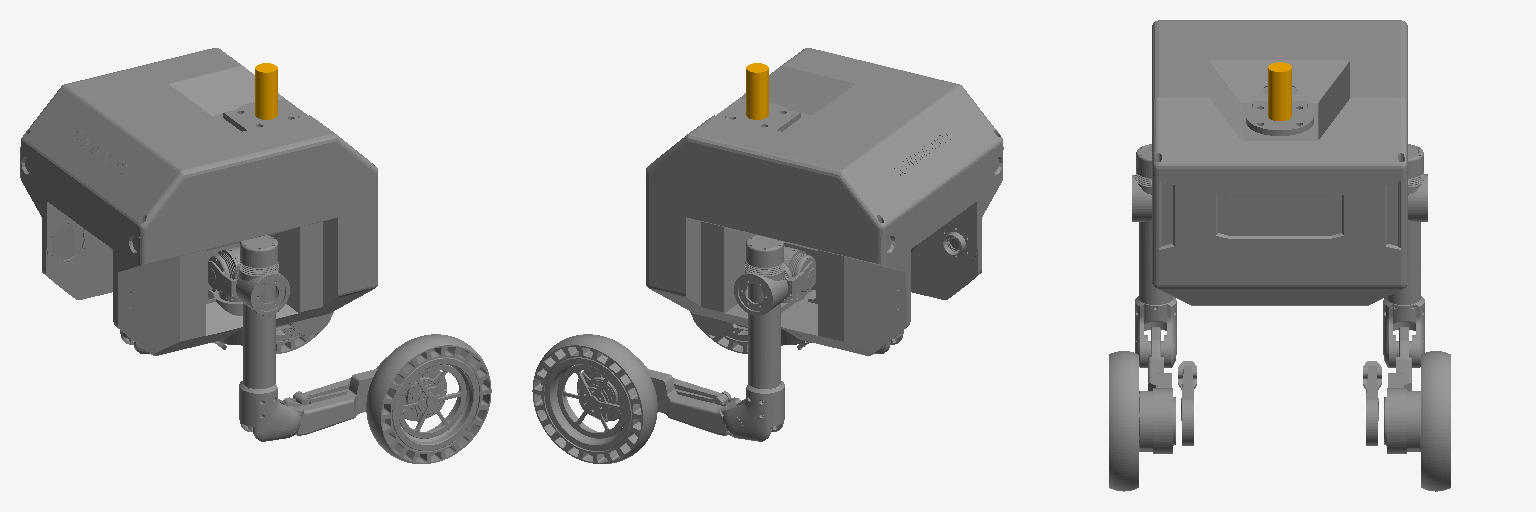
robot.urdf — wheelwalker_v1:
<?xml version="1.0" ?>
<!-- =================================================================================== -->
<!-- |    This document was autogenerated by xacro from xacro/wheelwalker_v1.urdf.xacro | -->
<!-- |    EDITING THIS FILE BY HAND IS NOT RECOMMENDED                                 | -->
<!-- =================================================================================== -->
<robot name="wheelwalker_v1">

  <link name="base_link">
    <visual>
      <geometry>
        <mesh filename="../meshes/wheelwalker_v0.1/base_link.stl"/>
      </geometry>
      <origin rpy="0 0 0" xyz="0 0 0.0"/>
      <material name="LightGrey">
        <color rgba="0.6 0.6 0.6 1.0"/>
      </material>
    </visual>
    <collision>
      <origin rpy="0 0 0" xyz="0 0 0.0"/>
      <geometry>
        <box size="0.49500000000000005 0.44000000000000006 0.385"/>
      </geometry>
    </collision>
    <inertial>
      <origin rpy="0 0 0" xyz="0 0 0.0"/>
      <mass value="6.0396"/>
      <inertia ixx="0.14218225" ixy="0.0" ixz="0.0" iyy="0.1635725" iyz="0.0" izz="0.18244625"/>
    </inertial>
  </link>


  <!-- shoulder mounting points -->
  <joint name="top_shoulder_mount_joint" type="fixed">
    <origin rpy="0 0 0" xyz="0.12600000000000003 0.0 0.175"/>
    <parent link="base_link"/>
    <child link="top_shoulder_mount_link"/>
  </joint>
  <link name="top_shoulder_mount_link">
    <visual>
      <origin rpy="0 0 0" xyz="0 0 0"/>
      <geometry>
        <cylinder length="0.08879999999999999" radius="0.0185"/>
      </geometry>
      <material name="yellow-skin">
        <color rgba="1.0 0.7 0.0 1.0"/>
      </material>    </visual>
  </link>

  <!-- Left Leg Links -->
  <!-- hip mounting points -->
  <joint name="left_hip_mount_joint" type="fixed">
    <origin rpy="0 0 0" xyz="0.0 0.119 -0.147"/>
    <parent link="base_link"/>
    <child link="left_hip_yaw_link"/>
  </joint>


  <!-- hip yaw -->

  <link name="left_hip_yaw_link">
    <visual>
      <origin rpy="0 0 0" xyz="0 0 0"/>
      <geometry>
        <mesh filename="../meshes/wheelwalker_v0.1/left_hip_yaw_link.stl" scale="0.001 0.001 0.001"/>
      </geometry>
      <material name="LightGrey">
        <color rgba="0.6 0.6 0.6 1.0"/>
      </material>
    </visual>
    <collision>
      <origin rpy="0 0 0" xyz="0 0 0"/>
      <geometry>
        <cylinder length="0.08879999999999999" radius="0.0185"/>
      </geometry>
    </collision>
    <inertial>
      <origin rpy="0 0 0" xyz="0 0 0"/>
      <mass value="0.85"/>
      <inertia ixx="0.0006312801249999998" ixy="0.0" ixz="0.0" iyy="0.0006312801249999998" iyz="0.0" izz="0.00014545624999999997"/>
    </inertial>
  </link>
  <joint name="left_hip_yaw_joint" type="fixed">
    <origin rpy="0 0 0" xyz="0 0 0"/>
    <parent link="left_hip_yaw_link"/>
    <child link="left_hip_roll_link"/>
    <axis xyz="0 0 1"/>
    <limit effort="1000.0" lower="-3.14159265359" upper="3.14159265359" velocity="10.0"/>
    <dynamics damping="0.0" friction="0.0"/>
  </joint>

  <!-- hip roll -->

  <link name="left_hip_roll_link">
    <visual>
      <origin rpy="0 0 0" xyz="0 0 0.08175"/>
      <geometry>
        <mesh filename="../meshes/wheelwalker_v0.1/left_hip_roll_link.stl" scale="0.001 0.001 0.001"/>
      </geometry>
      <material name="LightGrey">
        <color rgba="0.6 0.6 0.6 1.0"/>
      </material>
    </visual>
    <collision>
      <origin rpy="0 1.570796326795 0" xyz="0 0 0.08175"/>
      <geometry>
        <cylinder length="0.08879999999999999" radius="0.0185"/>
      </geometry>
    </collision>
    <inertial>
      <origin rpy="0 1.570796326795 0" xyz="0 0 0.08175"/>
      <mass value="0.85"/>
      <inertia ixx="0.0006312801249999998" ixy="0.0" ixz="0.0" iyy="0.0006312801249999998" iyz="0.0" izz="0.00014545624999999997"/>
    </inertial>
  </link>
  <joint name="left_hip_roll_joint" type="fixed">
    <origin rpy="0 0 0" xyz="0 0 0.08175"/>
    <parent link="left_hip_roll_link"/>
    <child link="left_hip_pitch_link"/>
    <axis xyz="1 0 0"/>
    <limit effort="1000.0" lower="-3.14159265359" upper="3.14159265359" velocity="10.0"/>
    <dynamics damping="0.0" friction="0.0"/>
  </joint>

  <!-- hip pitch -->

  <link name="left_hip_pitch_link">
    <visual>
      <origin rpy="0 0 0" xyz="0 0.07525 0"/>
      <geometry>
        <mesh filename="../meshes/wheelwalker_v0.1/left_hip_pitch_link.stl" scale="0.001 0.001 0.001"/>
      </geometry>
      <material name="LightGrey">
        <color rgba="0.6 0.6 0.6 1.0"/>
      </material>
    </visual>
    <collision>
      <origin rpy="1.570796326795 0 0" xyz="0 0.07525 0"/>
      <geometry>
        <cylinder length="0.08879999999999999" radius="0.0185"/>
      </geometry>
    </collision>
    <inertial>
      <origin rpy="1.570796326795 0 0" xyz="0 0.07525 0"/>
      <mass value="0.85"/>
      <inertia ixx="0.0006312801249999998" ixy="0.0" ixz="0.0" iyy="0.0006312801249999998" iyz="0.0" izz="0.00014545624999999997"/>
    </inertial>
  </link>
  <joint name="left_hip_pitch_joint" type="fixed">
    <origin rpy="0 0 0" xyz="0 0.07525 0"/>
    <parent link="left_hip_pitch_link"/>
    <child link="left_thigh_link"/>
    <axis xyz="0 1 0"/>
    <limit effort="1000.0" lower="-1.570796326795" upper="1.570796326795" velocity="10.0"/>
    <dynamics damping="0.0" friction="0.0"/>
  </joint>

  <!-- Thigh link -->

  <link name="left_thigh_link">
    <visual>
      <origin rpy="0 0 0" xyz="0 0 0"/>
      <geometry>
        <mesh filename="../meshes/wheelwalker_v0.1/left_thigh_link.stl" scale="0.001 0.001 0.001"/>
      </geometry>
      <material name="LightGrey">
        <color rgba="0.6 0.6 0.6 1.0"/>
      </material>
    </visual>
    <collision>
      <origin rpy="0 0 0" xyz="0.0 0.0 -0.125"/>
      <geometry>
        <cylinder length="0.275" radius="0.036300000000000006"/>
      </geometry>
    </collision>
    <inertial>
      <origin rpy="0 0 0" xyz="0.0 0.0 -0.125"/>
      <mass value="2.8"/>
      <inertia ixx="0.015345633333333332" ixy="0.0" ixz="0.0" iyy="0.015345633333333332" iyz="0.0" izz="0.0015246"/>
    </inertial>
  </link>


  <joint name="left_knee_pitch_joint" type="fixed">
    <origin rpy="0 -1.570796326795 0 " xyz="0.04 0 -0.25"/>
    <parent link="left_thigh_link"/>
    <child link="left_tibia_link"/>
    <axis xyz="0 1 0"/>
    <limit effort="1000.0" lower="-0.7853981633975" upper="0.7853981633975" velocity="10.0"/>
    <dynamics damping="0.0" friction="0.0"/>
  </joint>

  <link name="left_tibia_link">
    <visual>
      <origin rpy="0 0 0" xyz="0 0 0"/>
      <geometry>
        <mesh filename="../meshes/wheelwalker_v0.1/left_tibia_link.stl" scale="0.001 0.001 0.001"/>
      </geometry>
      <material name="LightGrey">
        <color rgba="0.6 0.6 0.6 1.0"/>
      </material>
    </visual>
    <collision>
      <origin rpy="0 0 0" xyz="0 0 -0.125"/>
      <geometry>
        <cylinder length="0.275" radius="0.03465"/>
      </geometry>
    </collision>
    <inertial>
      <origin rpy="0 0 0" xyz="0 0 -0.125"/>
      <mass value="1.2"/>
      <inertia ixx="0.006547674999999999" ixy="0.0" ixz="0.0" iyy="0.006547674999999999" iyz="0.0" izz="0.00059535"/>
    </inertial>
  </link>


  <!-- supporting foot -->

  <joint name="left_ankle_pitch_joint" type="fixed">
    <origin rpy="0 1.570796326795 0" xyz="0 -0.05 -0.25"/>
    <parent link="left_tibia_link"/>
    <child link="left_foot_link"/>
    <axis xyz="0 1 0"/>
    <limit effort="1000.0" lower="-0.7853981633975" upper="0.7853981633975" velocity="10.0"/>
    <dynamics damping="0.0" friction="0.0"/>
  </joint>

  <link name="left_foot_link">
    <visual>
      <origin rpy="0 0 0" xyz="0 0 0"/>
      <geometry>
        <mesh filename="../meshes/wheelwalker_v0.1/left_foot_link.stl" scale="0.001 0.001 0.001"/>
      </geometry>
      <material name="LightGrey">
        <color rgba="0.6 0.6 0.6 1.0"/>
      </material>
    </visual>
    <collision>
      <origin rpy="0 1.570796326795 0" xyz="-0.09 0 0"/>
      <geometry>
        <cylinder length="0.18" radius="0.012"/>
      </geometry>
    </collision>
    <inertial>
      <origin rpy="0 1.570796326795 0" xyz="-0.09 0 0"/>
      <mass value="1.177"/>
      <inertia ixx="0.0032202719999999997" ixy="0.0" ixz="0.0" iyy="0.0032202719999999997" iyz="0.0" izz="8.4744e-05"/>
    </inertial>
  </link>

  <!-- wheel link -->

  <joint name="left_wheel_joint" type="revolute">
    <origin rpy="0 1.570796326795 0" xyz="0 0.05 -0.25"/>
    <parent link="left_tibia_link"/>
    <child link="left_wheel_link"/>
    <axis xyz="0 1 0"/>
    <limit effort="1000.0" velocity="10.0"/>
    <dynamics damping="0.0" friction="0.0"/>
  </joint>
  <link name="left_wheel_link">
    <visual>
      <origin rpy="0 0 0" xyz="0 0 0"/>
      <geometry>
        <mesh filename="../meshes/wheelwalker_v0.1/left_wheel_link.stl" scale="0.001 0.001 0.001"/>
      </geometry>
      <material name="LightGrey">
        <color rgba="0.6 0.6 0.6 1.0"/>
      </material>
    </visual>
    <collision>
      <origin rpy="1.570796326795 0 0" xyz="0 0 0"/>
      <geometry>
        <cylinder length="0.03" radius="0.11"/>
      </geometry>
    </collision>
    <inertial>
      <origin rpy="1.570796326795 0 0" xyz="0 0 0"/>
      <mass value="0.9"/>
      <inertia ixx="0.0027899999999999995" ixy="0.0" ixz="0.0" iyy="0.0027899999999999995" iyz="0.0" izz="0.005445"/>
    </inertial>
  </link>
  <!-- Right Leg Links -->

  <!-- hip mounting points -->

  <joint name="right_hip_mount_joint" type="fixed">
    <origin rpy="0 0 0" xyz="0.0 -0.119 -0.147"/>
    <parent link="base_link"/>
    <child link="right_hip_yaw_link"/>
  </joint>

  <!-- hip yaw -->

  <link name="right_hip_yaw_link">
    <visual>
      <origin rpy="0 0 0" xyz="0 0 0"/>
      <geometry>
        <mesh filename="../meshes/wheelwalker_v0.1/right_hip_yaw_link.stl" scale="0.001 0.001 0.001"/>
      </geometry>
      <material name="LightGrey">
        <color rgba="0.6 0.6 0.6 1.0"/>
      </material>
    </visual>
    <collision>
      <origin rpy="0 0 0" xyz="0 0 0"/>
      <geometry>
        <cylinder length="0.08879999999999999" radius="0.0185"/>
      </geometry>
    </collision>
    <inertial>
      <origin rpy="0 0 0" xyz="0 0 0"/>
      <mass value="0.85"/>
      <inertia ixx="0.0006312801249999998" ixy="0.0" ixz="0.0" iyy="0.0006312801249999998" iyz="0.0" izz="0.00014545624999999997"/>
    </inertial>
  </link>
  <joint name="right_hip_yaw_joint" type="fixed">
    <origin rpy="0 0 0" xyz="0 0 0"/>
    <parent link="right_hip_yaw_link"/>
    <child link="right_hip_roll_link"/>
    <axis xyz="0 0 1"/>
    <limit effort="1000.0" lower="-3.14159265359" upper="3.14159265359" velocity="10.0"/>
    <dynamics damping="0.0" friction="0.0"/>
  </joint>

  <!-- hip roll -->

  <link name="right_hip_roll_link">
    <visual>
      <origin rpy="0 0 0" xyz="0 0 0.08175"/>
      <geometry>
        <mesh filename="../meshes/wheelwalker_v0.1/right_hip_roll_link.stl" scale="0.001 0.001 0.001"/>
      </geometry>
      <material name="LightGrey">
        <color rgba="0.6 0.6 0.6 1.0"/>
      </material>
    </visual>
    <collision>
      <origin rpy="0 1.570796326795 0" xyz="0 0 0.08175"/>
      <geometry>
        <cylinder length="0.08879999999999999" radius="0.0185"/>
      </geometry>
    </collision>
    <inertial>
      <origin rpy="0 1.570796326795 0" xyz="0 0 0.08175"/>
      <mass value="0.85"/>
      <inertia ixx="0.0006312801249999998" ixy="0.0" ixz="0.0" iyy="0.0006312801249999998" iyz="0.0" izz="0.00014545624999999997"/>
    </inertial>
  </link>
  <joint name="right_hip_roll_joint" type="fixed">
    <origin rpy="0 0 0" xyz="0 0 0.08175"/>
    <parent link="right_hip_roll_link"/>
    <child link="right_hip_pitch_link"/>
    <axis xyz="-1 0 0"/>
    <limit effort="1000.0" lower="-3.14159265359" upper="3.14159265359" velocity="10.0"/>
    <dynamics damping="0.0" friction="0.0"/>
  </joint>

  <!-- hip pitch -->

  <link name="right_hip_pitch_link">
    <visual>
      <origin rpy="0 0 0" xyz="0 -0.07525 0"/>
      <geometry>
        <mesh filename="../meshes/wheelwalker_v0.1/right_hip_pitch_link.stl" scale="0.001 0.001 0.001"/>
      </geometry>
      <material name="LightGrey">
        <color rgba="0.6 0.6 0.6 1.0"/>
      </material>
    </visual>
    <collision>
      <origin rpy="1.570796326795 0 0" xyz="0 -0.07525 0"/>
      <geometry>
        <cylinder length="0.08879999999999999" radius="0.0185"/>
      </geometry>
    </collision>
    <inertial>
      <origin rpy="1.570796326795 0 0" xyz="0 -0.07525 0"/>
      <mass value="0.85"/>
      <inertia ixx="0.0006312801249999998" ixy="0.0" ixz="0.0" iyy="0.0006312801249999998" iyz="0.0" izz="0.00014545624999999997"/>
    </inertial>
  </link>
  <joint name="right_hip_pitch_joint" type="fixed">
    <origin rpy="0 0 0" xyz="0 -0.07525 0"/>
    <parent link="right_hip_pitch_link"/>
    <child link="right_thigh_link"/>
    <axis xyz="0 1 0"/>
    <limit effort="1000.0" lower="-1.570796326795" upper="1.570796326795" velocity="10.0"/>
    <dynamics damping="0.0" friction="0.0"/>
  </joint>

  <!-- Thigh link -->

  <link name="right_thigh_link">
    <visual>
      <origin rpy="0 0 0" xyz="0 0 0"/>
      <geometry>
        <mesh filename="../meshes/wheelwalker_v0.1/right_thigh_link.stl" scale="0.001 0.001 0.001"/>
      </geometry>
      <material name="LightGrey">
        <color rgba="0.6 0.6 0.6 1.0"/>
      </material>
    </visual>
    <collision>
      <origin rpy="0 0 0" xyz="0.0 -0.0 -0.125"/>
      <geometry>
        <cylinder length="0.275" radius="0.036300000000000006"/>
      </geometry>
    </collision>
    <inertial>
      <origin rpy="0 0 0" xyz="0.0 -0.0 -0.125"/>
      <mass value="2.8"/>
      <inertia ixx="0.015345633333333332" ixy="0.0" ixz="0.0" iyy="0.015345633333333332" iyz="0.0" izz="0.0015246"/>
    </inertial>
  </link>

  <joint name="right_knee_pitch_joint" type="fixed">
    <origin rpy="0 -1.570796326795 0 " xyz="0.04 0 -0.25"/>
    <parent link="right_thigh_link"/>
    <child link="right_tibia_link"/>
    <axis xyz="0 1 0"/>
    <limit effort="1000.0" lower="-0.7853981633975" upper="0.7853981633975" velocity="10.0"/>
    <dynamics damping="0.0" friction="0.0"/>
  </joint>

  <link name="right_tibia_link">
    <visual>
      <origin rpy="0 0 0" xyz="0 0 0"/>
      <geometry>
        <mesh filename="../meshes/wheelwalker_v0.1/right_tibia_link.stl" scale="0.001 0.001 0.001"/>
      </geometry>
      <material name="LightGrey">
        <color rgba="0.6 0.6 0.6 1.0"/>
      </material>
    </visual>
    <collision>
      <origin rpy="0 0 0" xyz="0 0 -0.125"/>
      <geometry>
        <cylinder length="0.275" radius="0.03465"/>
      </geometry>
    </collision>
    <inertial>
      <origin rpy="0 0 0" xyz="0 0 -0.125"/>
      <mass value="1.2"/>
      <inertia ixx="0.006547674999999999" ixy="0.0" ixz="0.0" iyy="0.006547674999999999" iyz="0.0" izz="0.00059535"/>
    </inertial>
  </link>

  <!-- supporting foot -->
  <joint name="right_ankle_pitch_joint" type="fixed">
    <origin rpy="0 1.570796326795 0" xyz="0 0.05 -0.25"/>
    <parent link="right_tibia_link"/>
    <child link="right_foot_link"/>
    <axis xyz="0 1 0"/>
    <limit effort="1000.0" lower="-0.7853981633975" upper="0.7853981633975" velocity="10.0"/>
    <dynamics damping="0.0" friction="0.0"/>
  </joint>
  <link name="right_foot_link">
    <visual>
      <origin rpy="0 0 0" xyz="0 0 0"/>
      <geometry>
        <mesh filename="../meshes/wheelwalker_v0.1/right_foot_link.stl" scale="0.001 0.001 0.001"/>
      </geometry>
      <material name="LightGrey">
        <color rgba="0.6 0.6 0.6 1.0"/>
      </material>
    </visual>
    <collision>
      <origin rpy="0 1.570796326795 0" xyz="-0.09 0 0"/>
      <geometry>
        <cylinder length="0.18" radius="0.012"/>
      </geometry>
    </collision>
    <inertial>
      <origin rpy="0 1.570796326795 0" xyz="-0.09 0 0"/>
      <mass value="1.177"/>
      <inertia ixx="0.0032202719999999997" ixy="0.0" ixz="0.0" iyy="0.0032202719999999997" iyz="0.0" izz="8.4744e-05"/>
    </inertial>
  </link>

  <!-- wheel link -->

  <joint name="right_wheel_joint" type="revolute">
    <origin rpy="0 1.570796326795 0" xyz="0 -0.05 -0.25"/>
    <parent link="right_tibia_link"/>
    <child link="right_wheel_link"/>
    <axis xyz="0 1 0"/>
    <limit effort="1000.0" velocity="10.0"/>
    <dynamics damping="0.0" friction="0.0"/>
  </joint>

  <link name="right_wheel_link">
    <visual>
      <origin rpy="0 0 0" xyz="0 0 0"/>
      <geometry>
        <mesh filename="../meshes/wheelwalker_v0.1/right_wheel_link.stl" scale="0.001 0.001 0.001"/>
      </geometry>
      <material name="LightGrey">
        <color rgba="0.6 0.6 0.6 1.0"/>
      </material>
    </visual>
    <collision>
      <origin rpy="1.570796326795 0 0" xyz="0 0 0"/>
      <geometry>
        <cylinder length="0.03" radius="0.11"/>
      </geometry>
    </collision>
    <inertial>
      <origin rpy="1.570796326795 0 0" xyz="0 0 0"/>
      <mass value="0.9"/>
      <inertia ixx="0.0027899999999999995" ixy="0.0" ixz="0.0" iyy="0.0027899999999999995" iyz="0.0" izz="0.005445"/>
    </inertial>
  </link>
</robot>

--- What the picture shows (computed from the rendered views, not written in the file) ---
The picture shows the robot from 3 angles, left to right: view 1: azimuth 30°, elevation 25°; view 2: azimuth 150°, elevation 25°; view 3: azimuth 270°, elevation 25°; orthographic projection.
Robot: wheelwalker_v1 — 16 links, 15 joints (2 revolute, 13 fixed); root link base_link; default pose: every joint at zero.
Links seen in each view (by area): view 1: base_link, right_wheel_link, right_thigh_link, right_tibia_link, right_hip_pitch_link, top_shoulder_mount_link, right_foot_link, right_hip_roll_link, left_foot_link, left_wheel_link; view 2: base_link, left_wheel_link, left_thigh_link, left_tibia_link, left_hip_pitch_link, top_shoulder_mount_link, left_foot_link, left_hip_roll_link, right_foot_link, right_wheel_link; view 3: base_link, left_wheel_link, right_wheel_link, left_thigh_link, right_thigh_link, left_tibia_link, right_tibia_link, top_shoulder_mount_link, left_foot_link, right_foot_link, left_hip_pitch_link, right_hip_pitch_link.
Link boxes in pixels (x1=…): base_link: x1=20, y1=48, x2=377, y2=355; right_wheel_link: x1=366, y1=334, x2=491, y2=463; right_thigh_link: x1=231, y1=235, x2=300, y2=441; right_tibia_link: x1=285, y1=369, x2=446, y2=435; right_hip_pitch_link: x1=208, y1=261, x2=289, y2=315; top_shoulder_mount_link: x1=255, y1=63, x2=277, y2=119; right_foot_link: x1=283, y1=357, x2=386, y2=406; right_hip_roll_link: x1=208, y1=246, x2=240, y2=301; left_foot_link: x1=212, y1=312, x2=332, y2=349; left_wheel_link: x1=241, y1=311, x2=333, y2=353; base_link: x1=646, y1=48, x2=1003, y2=355; left_wheel_link: x1=532, y1=334, x2=657, y2=463; left_thigh_link: x1=723, y1=235, x2=792, y2=441; left_tibia_link: x1=577, y1=369, x2=738, y2=435; left_hip_pitch_link: x1=734, y1=261, x2=815, y2=315; top_shoulder_mount_link: x1=746, y1=63, x2=768, y2=119; left_foot_link: x1=637, y1=357, x2=740, y2=406; left_hip_roll_link: x1=781, y1=246, x2=815, y2=302; right_foot_link: x1=691, y1=312, x2=811, y2=349; right_wheel_link: x1=690, y1=311, x2=782, y2=353; base_link: x1=1152, y1=20, x2=1407, y2=305; left_wheel_link: x1=1421, y1=351, x2=1450, y2=491; right_wheel_link: x1=1109, y1=351, x2=1138, y2=491; left_thigh_link: x1=1383, y1=144, x2=1424, y2=367; right_thigh_link: x1=1135, y1=144, x2=1176, y2=367; left_tibia_link: x1=1384, y1=327, x2=1420, y2=453; right_tibia_link: x1=1139, y1=327, x2=1175, y2=453; top_shoulder_mount_link: x1=1268, y1=62, x2=1291, y2=120; left_foot_link: x1=1363, y1=361, x2=1381, y2=445; right_foot_link: x1=1178, y1=361, x2=1196, y2=445; left_hip_pitch_link: x1=1408, y1=174, x2=1427, y2=221; right_hip_pitch_link: x1=1132, y1=175, x2=1151, y2=221.
Bounding box of the posed robot: 0.6252 × 0.5365 × 0.6446 m (x, y, z).
14 mesh visuals loaded from 15 distinct referenced files (14 binary STL); not drawn: 1 (reference not matched to a file when rendering).